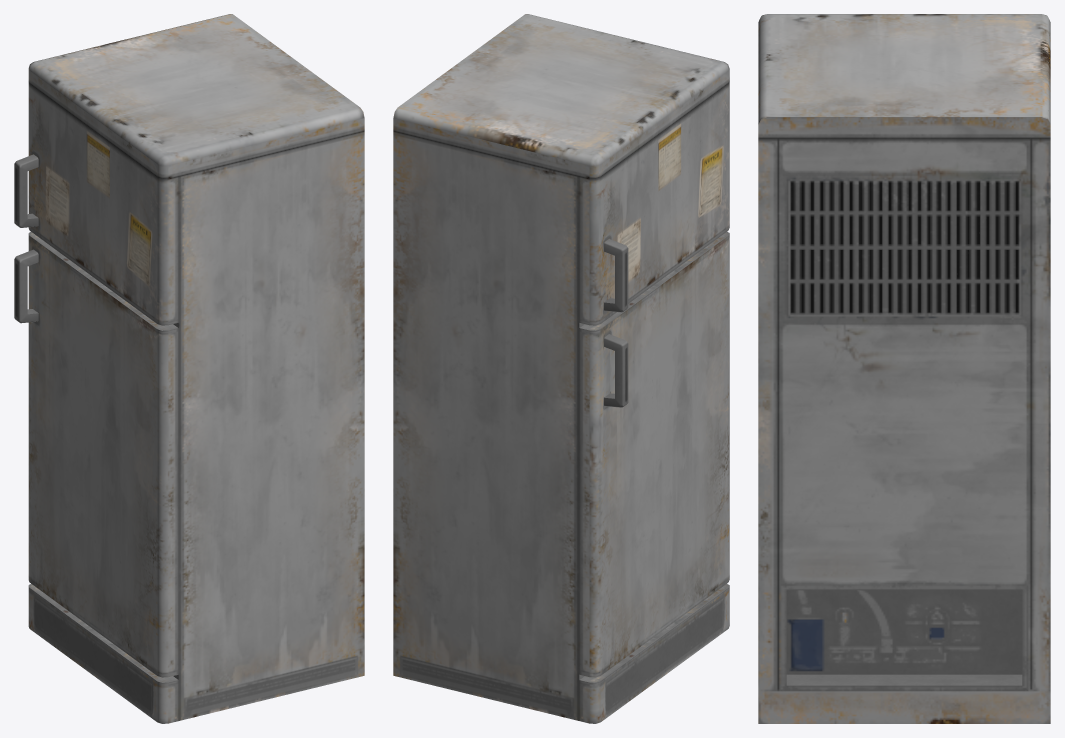
File: CP_Fridge_01.fbx
3 renders of one model, left to right at view 1: azimuth 30°, elevation 25°; view 2: azimuth 150°, elevation 25°; view 3: azimuth 270°, elevation 25°, orthographic. The views are drawn at different scales.
Parts seen in each view (by area): view 1: CP_Fridge_01_LOD0; view 2: CP_Fridge_01_LOD0; view 3: CP_Fridge_01_LOD0.
Boxes of the visible parts, left/top/right/bottom form: CP_Fridge_01_LOD0: left=14, top=14, right=364, bottom=723; CP_Fridge_01_LOD0: left=393, top=14, right=729, bottom=723; CP_Fridge_01_LOD0: left=758, top=14, right=1050, bottom=723.
Size of what is drawn, in the model's own units: 73.15 by 178 by 77.5.
